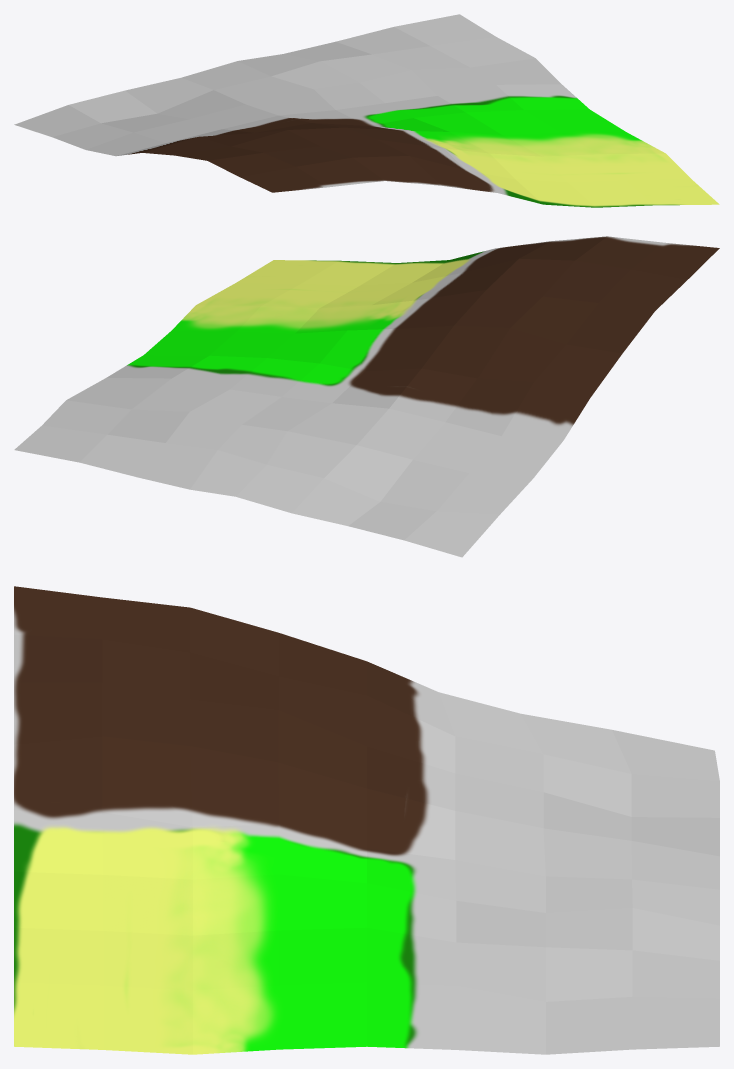
File: CornerEdgeTile2.fbx
The picture shows the model from 3 angles, top to bottom: view 1: azimuth 30°, elevation 25°; view 2: azimuth 150°, elevation 25°; view 3: azimuth 270°, elevation 25°; orthographic projection. The views are drawn at different scales.
Visible parts, largest first — view 1: Cube; view 2: Cube; view 3: Cube.
Part boxes in pixels (left/top/right/bottom): Cube: left=14, top=14, right=719, bottom=207; Cube: left=14, top=236, right=719, bottom=557; Cube: left=14, top=586, right=719, bottom=1054.
Bounding box in the file's own units: 408 × 103 × 400.
